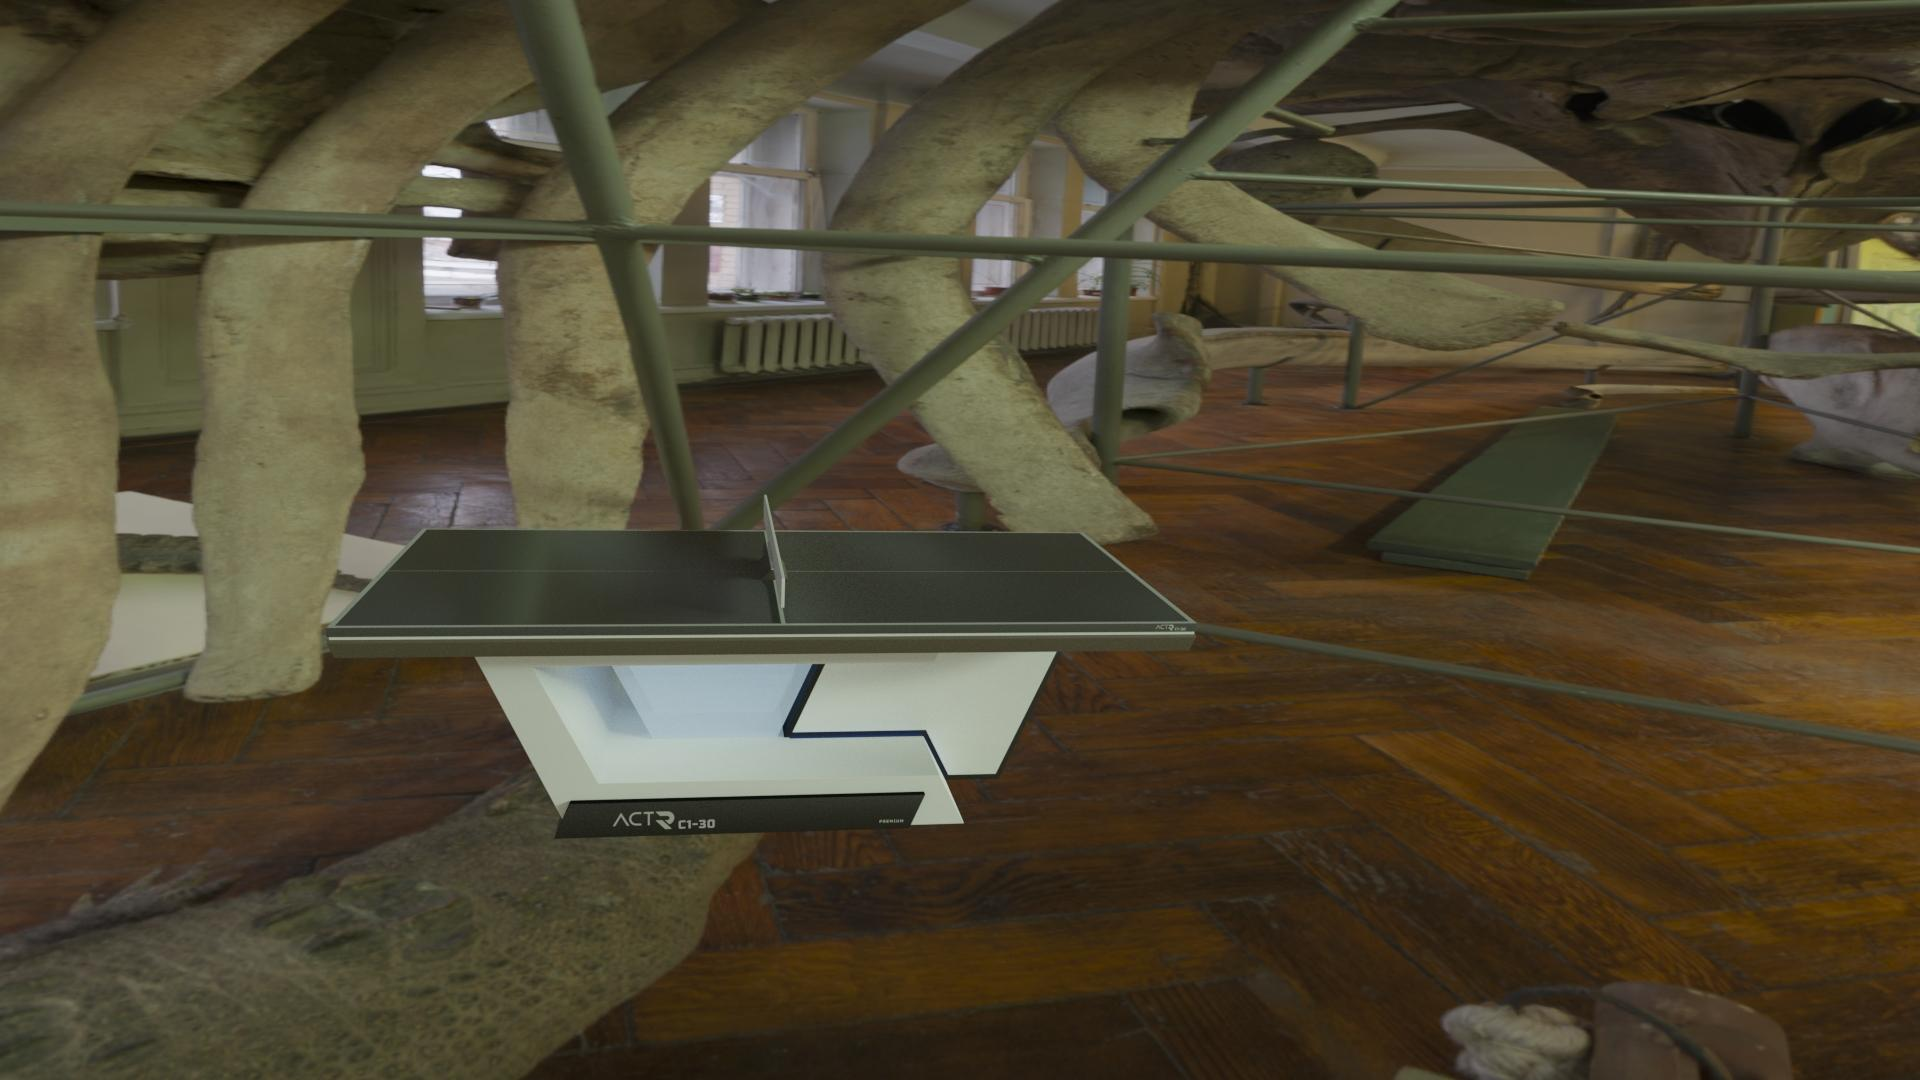table: (335, 529, 1189, 626)
